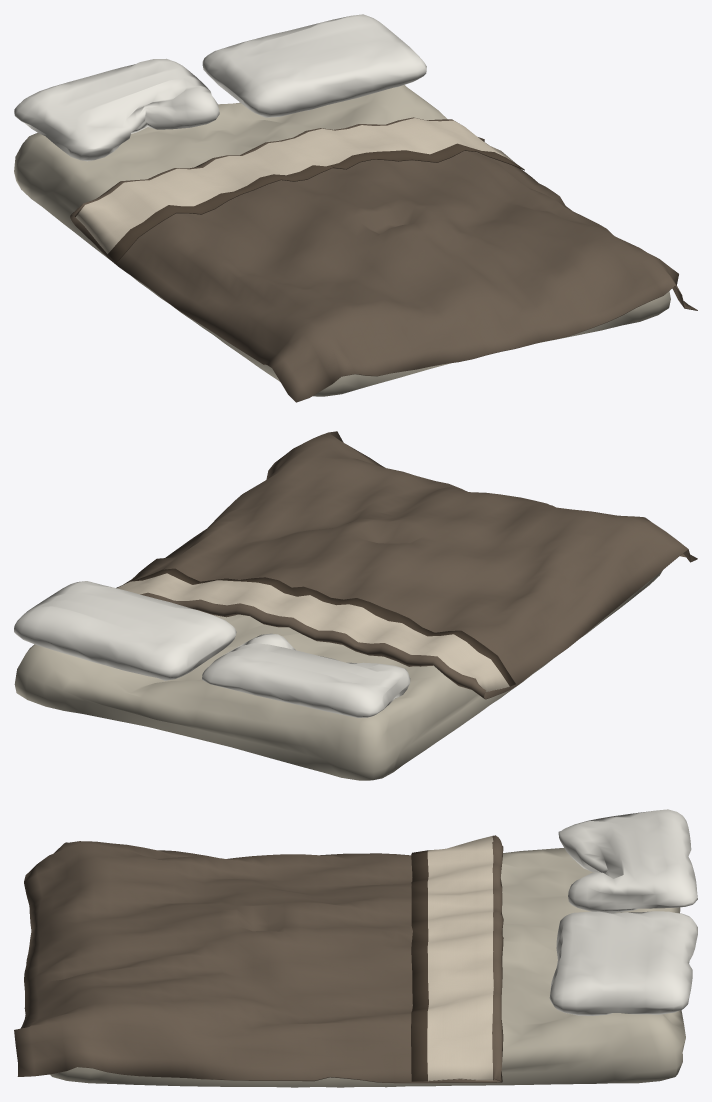
File: bed_soft.glb
3 views of the same model, one above another, from view 1: azimuth 30°, elevation 25°; view 2: azimuth 150°, elevation 25°; view 3: azimuth 270°, elevation 25° (orthographic). The views are drawn at different scales.
Visible parts, largest first — view 1: Quilt, Mattress, Pillow_R, Pillow_L; view 2: Quilt, Mattress, Pillow_R, Pillow_L; view 3: Quilt, Mattress, Pillow_R, Pillow_L.
Part boxes in pixels (<box>): Quilt: <box>70,117,697,402</box>; Mattress: <box>14,85,670,396</box>; Pillow_R: <box>202,14,426,117</box>; Pillow_L: <box>14,58,219,161</box>; Quilt: <box>116,431,697,699</box>; Mattress: <box>14,570,662,780</box>; Pillow_R: <box>14,581,236,680</box>; Pillow_L: <box>202,633,410,717</box>; Quilt: <box>14,835,503,1083</box>; Mattress: <box>50,848,685,1087</box>; Pillow_R: <box>549,911,697,1015</box>; Pillow_L: <box>558,809,697,912</box>.
Size of the model in its own units: 1.56 by 0.3514 by 2.1.
Materials: 5 (3 with a texture image).
